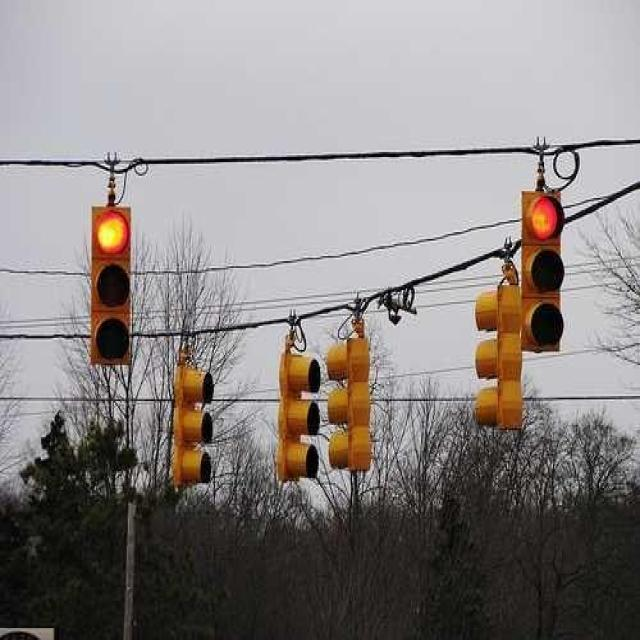Traffic Light -Red-: (82, 203, 143, 369), (516, 186, 570, 357)
